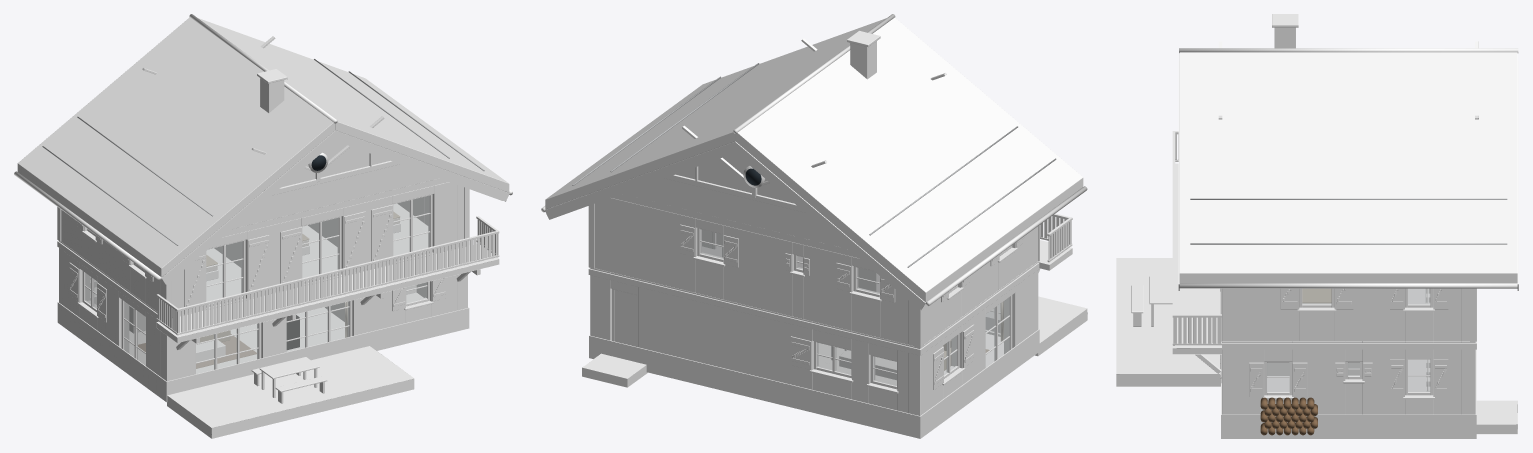
Rendered from chalet_traditionnel.glb.
3 renders of one model, left to right at view 1: azimuth 30°, elevation 25°; view 2: azimuth 150°, elevation 25°; view 3: azimuth 270°, elevation 25°, orthographic. The views are drawn at different scales.
Visible parts, largest first — view 1: Pan de toiture ouest (zinc joints debout), Terrasse, Pan de toiture est (zinc joints debout), Garde-corps balcon, Soubassement pierre, Menuiseries — Mur sud R+1 #4, Pignon sud, Volets — Mur sud R+1 #4, Mur sud R+1 #4, Menuiseries — Mur sud RDC #0, Mur sud RDC #0, Balcon (+18 smaller); view 2: Pan de toiture ouest (zinc joints debout), Mur nord R+1 #6, Mur nord RDC #2, Pan de toiture est (zinc joints debout), Soubassement pierre, Pignon nord, Mur ouest RDC #3, Bandeau et planches d'angle, Mur ouest R+1 #7, Menuiseries — Mur nord RDC #2, Lambrequin pignon nord -1, Lambrequin pignon nord 1 (+14 smaller); view 3: Pan de toiture est (zinc joints debout), Mur est RDC #1, Mur est R+1 #5, Terrasse, Soubassement pierre, Balcon, Menuiseries — Mur est RDC #1, Volets — Mur est RDC #1, Bandeau et planches d'angle, Garde-corps balcon, Gouttière est, Faîtière (+14 smaller).
Part boxes in pixels (left/top/right/bottom): Pan de toiture ouest (zinc joints debout): left=17, top=17, right=335, bottom=277; Terrasse: left=167, top=346, right=414, bottom=438; Pan de toiture est (zinc joints debout): left=198, top=18, right=509, bottom=192; Garde-corps balcon: left=156, top=216, right=499, bottom=335; Soubassement pierre: left=57, top=302, right=469, bottom=402; Menuiseries — Mur sud R+1 #4: left=206, top=194, right=432, bottom=307; Pignon sud: left=207, top=130, right=438, bottom=238; Volets — Mur sud R+1 #4: left=184, top=204, right=392, bottom=313; Mur sud R+1 #4: left=161, top=182, right=457, bottom=317; Menuiseries — Mur sud RDC #0: left=195, top=281, right=433, bottom=374; Mur sud RDC #0: left=161, top=249, right=457, bottom=381; Balcon: left=156, top=244, right=499, bottom=342; Pan de toiture ouest (zinc joints debout): left=735, top=17, right=1083, bottom=302; Mur nord R+1 #6: left=595, top=198, right=908, bottom=344; Mur nord RDC #2: left=590, top=268, right=908, bottom=413; Pan de toiture est (zinc joints debout): left=545, top=18, right=885, bottom=209; Soubassement pierre: left=589, top=317, right=1039, bottom=438; Pignon nord: left=611, top=141, right=878, bottom=262; Mur ouest RDC #3: left=908, top=266, right=1031, bottom=415; Bandeau et planches d'angle: left=588, top=203, right=1039, bottom=355; Mur ouest R+1 #7: left=908, top=231, right=1031, bottom=346; Menuiseries — Mur nord RDC #2: left=612, top=289, right=898, bottom=393; Lambrequin pignon nord -1: left=730, top=141, right=925, bottom=309; Lambrequin pignon nord 1: left=545, top=141, right=739, bottom=219; Pan de toiture est (zinc joints debout): left=1179, top=52, right=1517, bottom=283; Mur est RDC #1: left=1222, top=341, right=1461, bottom=414; Mur est R+1 #5: left=1222, top=288, right=1461, bottom=340; Terrasse: left=1116, top=258, right=1220, bottom=386; Soubassement pierre: left=1221, top=349, right=1476, bottom=438; Balcon: left=1172, top=163, right=1221, bottom=354; Menuiseries — Mur est RDC #1: left=1262, top=358, right=1434, bottom=399; Volets — Mur est RDC #1: left=1249, top=359, right=1448, bottom=396; Bandeau et planches d'angle: left=1220, top=288, right=1476, bottom=349; Garde-corps balcon: left=1172, top=131, right=1221, bottom=345; Gouttière est: left=1179, top=283, right=1517, bottom=288; Faîtière: left=1179, top=48, right=1518, bottom=53.
Size of the model in its own units: 13.67 by 10.25 by 11.43.
